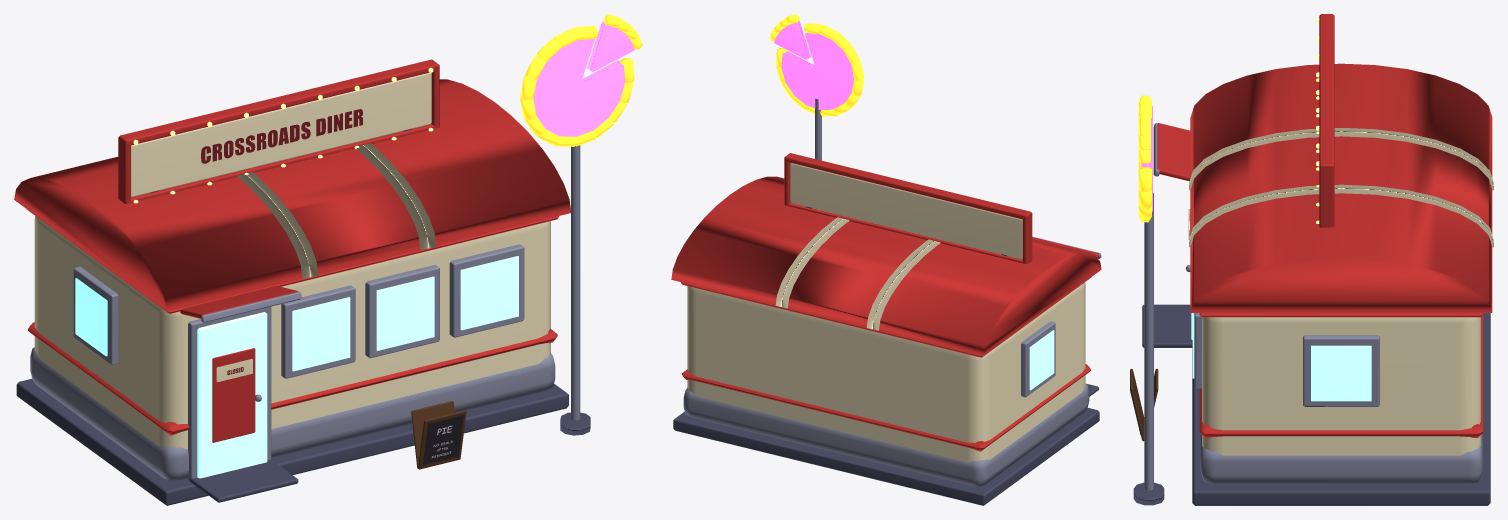
File: crossroads_diner.glb
The picture shows the model from 3 angles, left to right: view 1: azimuth 30°, elevation 25°; view 2: azimuth 150°, elevation 25°; view 3: azimuth 270°, elevation 25°; orthographic projection. The views are drawn at different scales.
Parts seen in each view (by area): view 1: Body, Sign, Pie, SandwichBoard; view 2: Body, Sign, Pie; view 3: Body, Pie, Sign, SandwichBoard.
Part boxes in pixels (x1,y1,x2,y2): Body: (14,79,570,505); Sign: (118,59,439,203); Pie: (520,14,642,435); SandwichBoard: (411,401,466,469); Body: (671,176,1101,505); Sign: (784,153,1032,263); Pie: (769,14,863,160); Body: (1142,63,1493,505); Pie: (1133,95,1164,505); Sign: (1316,14,1334,227); SandwichBoard: (1130,368,1158,441).
Size of the model in its own units: 5.36 by 4.62 by 3.78.
